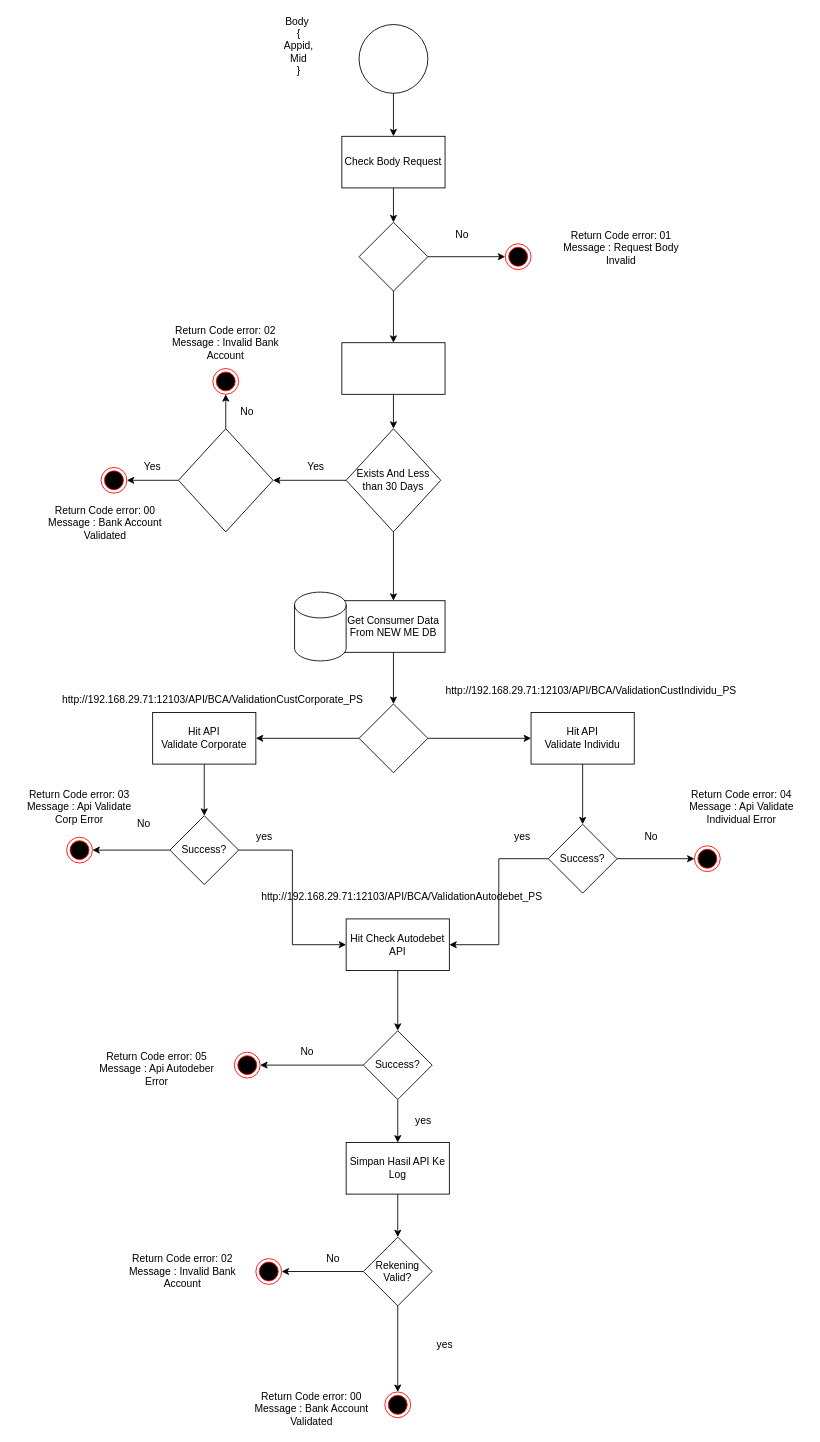
Image size: 820x1442. Some labels were removed from this diagram. Here are the shapes that lost their labels. From the top down, the centre of each, then its label:
At pixel 393 58: "Start".
At pixel 393 256: "is Valid?".
At pixel 393 368: "Get Recent Validate Log".
At pixel 225 480: "Is Valid".
At pixel 320 626: "New ME DB".
At pixel 393 738: "Individual Or Corporate".
